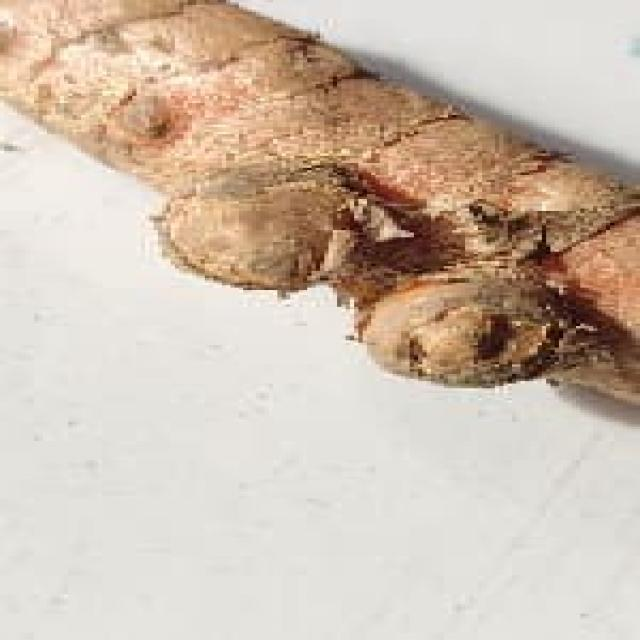ginger: (0, 0, 640, 391)
